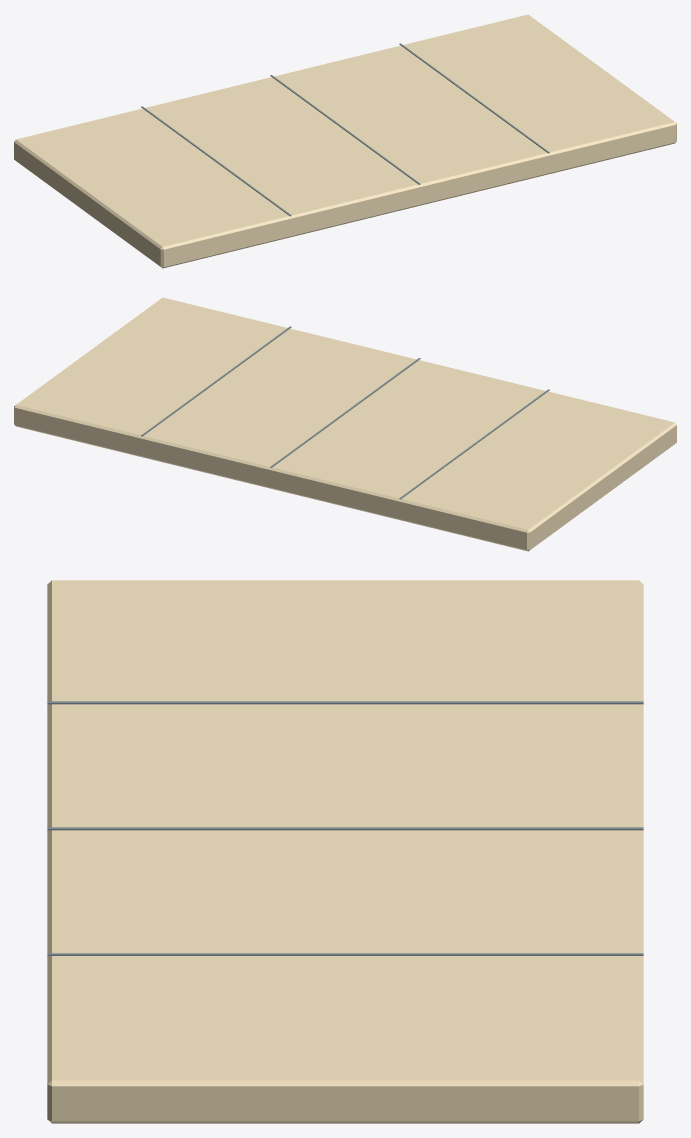
Rendered from Sidewalk_4m.fbx.
3 renders of one model, top to bottom at view 1: azimuth 30°, elevation 25°; view 2: azimuth 150°, elevation 25°; view 3: azimuth 270°, elevation 25°, orthographic. The views are drawn at different scales.
Parts seen in each view (by area): view 1: Pavement, Joint.002, Joint, Joint.001; view 2: Pavement, Joint.002, Joint, Joint.001; view 3: Pavement, Joint, Joint.001, Joint.002.
Boxes of the visible parts, box(x1,y1,x2,y2) form: Pavement: box(14, 14, 676, 268); Joint.002: box(399, 43, 549, 153); Joint: box(141, 106, 291, 216); Joint.001: box(270, 75, 420, 184); Pavement: box(14, 297, 676, 551); Joint.002: box(141, 326, 291, 436); Joint: box(399, 389, 549, 499); Joint.001: box(270, 358, 420, 467); Pavement: box(47, 580, 643, 1123); Joint: box(47, 701, 643, 704); Joint.001: box(47, 827, 643, 830); Joint.002: box(47, 953, 643, 955).
Bounding box in the file's own units: 4 × 0.1685 × 2.
